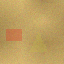structure: (29, 31, 47, 51)
vehicle: (6, 29, 22, 41)
